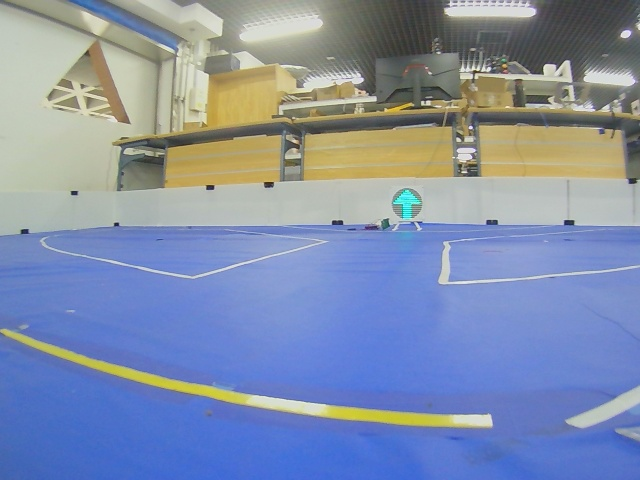straight_green: (392, 188, 422, 221)
